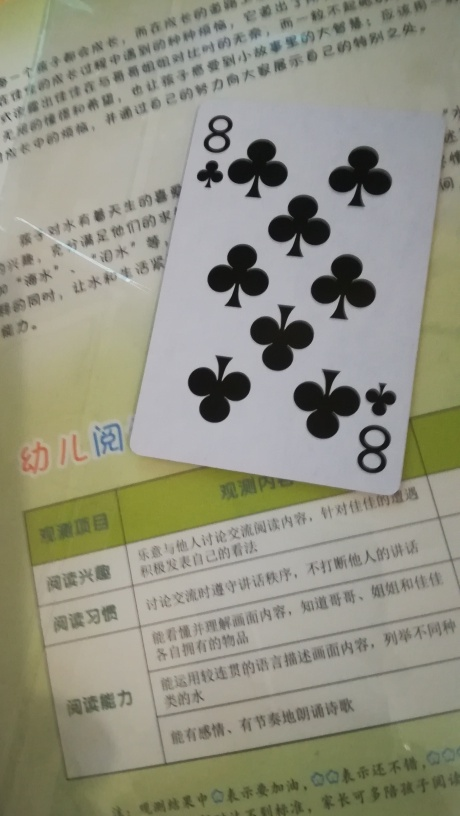mh 8: (118, 93, 450, 499)
